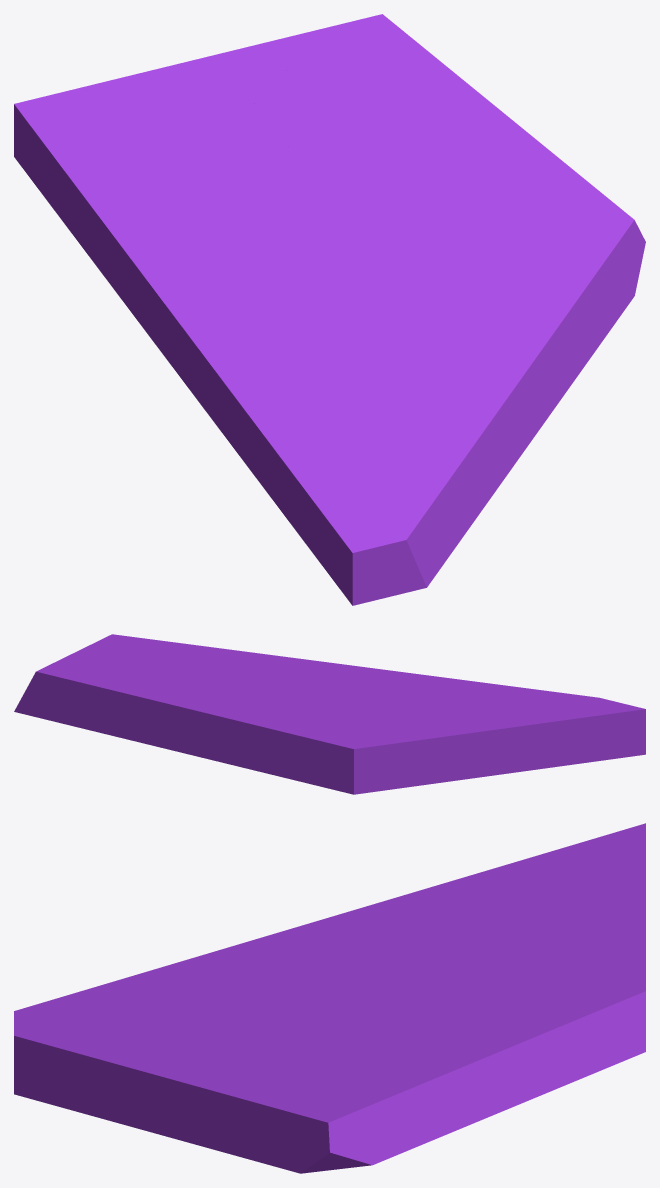
The model's file is Window_135_0_chunks.fbx.
The picture shows the model from 3 angles, top to bottom: view 1: azimuth 30°, elevation 25°; view 2: azimuth 150°, elevation 25°; view 3: azimuth 270°, elevation 25°; orthographic projection. The views are drawn at different scales.
Visible parts, largest first — view 1: Window_135_0_1, Window_135_0_14, Window_135_0_2, Window_135_0_13, Window_135_0_4, Window_135_0_10, Window_135_0_5, Window_135_0_12, Window_135_0_7, Window_135_0_8, Window_135_0_3, Window_135_0_16 (+7 smaller); view 2: Window_135_0_14, Window_135_0_1, Window_135_0_13, Window_135_0_12, Window_135_0_2, Window_135_0_19, Window_135_0_21, Window_135_0_10, Window_135_0_5, Window_135_0_4, Window_135_0_11, Window_135_0_3 (+9 smaller); view 3: Window_135_0_8, Window_135_0_2, Window_135_0_4, Window_135_0_1, Window_135_0_14, Window_135_0_13, Window_135_0_6, Window_135_0_7, Window_135_0_10, Window_135_0_12, Window_135_0_5, Window_135_0_3 (+7 smaller).
Part boxes in pixels (box(x1,y1,x2,y2)): Window_135_0_1: box(171, 286, 385, 483); Window_135_0_14: box(36, 159, 268, 329); Window_135_0_2: box(261, 433, 503, 605); Window_135_0_13: box(14, 89, 304, 186); Window_135_0_4: box(360, 276, 552, 478); Window_135_0_10: box(285, 125, 433, 286); Window_135_0_5: box(412, 142, 546, 279); Window_135_0_12: box(253, 14, 414, 165); Window_135_0_7: box(418, 255, 610, 410); Window_135_0_8: box(518, 127, 645, 328); Window_135_0_3: box(326, 368, 495, 468); Window_135_0_16: box(262, 191, 353, 296); Window_135_0_14: box(318, 706, 493, 791); Window_135_0_1: box(349, 691, 581, 775); Window_135_0_13: box(213, 695, 389, 792); Window_135_0_12: box(24, 667, 247, 737); Window_135_0_2: box(491, 683, 645, 765); Window_135_0_19: box(83, 683, 203, 751); Window_135_0_21: box(198, 707, 303, 758); Window_135_0_10: box(132, 668, 352, 700); Window_135_0_5: box(103, 652, 306, 681); Window_135_0_4: box(307, 660, 422, 691); Window_135_0_11: box(210, 755, 366, 794); Window_135_0_3: box(409, 673, 529, 707); Window_135_0_8: box(268, 1063, 475, 1173); Window_135_0_2: box(14, 970, 163, 1123); Window_135_0_4: box(119, 998, 328, 1142); Window_135_0_1: box(152, 913, 342, 1014); Window_135_0_14: box(340, 847, 566, 953); Window_135_0_13: box(477, 823, 645, 964); Window_135_0_6: box(447, 1022, 605, 1122); Window_135_0_7: box(187, 1024, 319, 1164); Window_135_0_10: box(325, 955, 518, 1022); Window_135_0_12: box(488, 936, 645, 1022); Window_135_0_5: box(312, 1021, 478, 1083); Window_135_0_3: box(84, 991, 223, 1089).
Bounding box in the file's own units: 922 × 482 × 1165.
